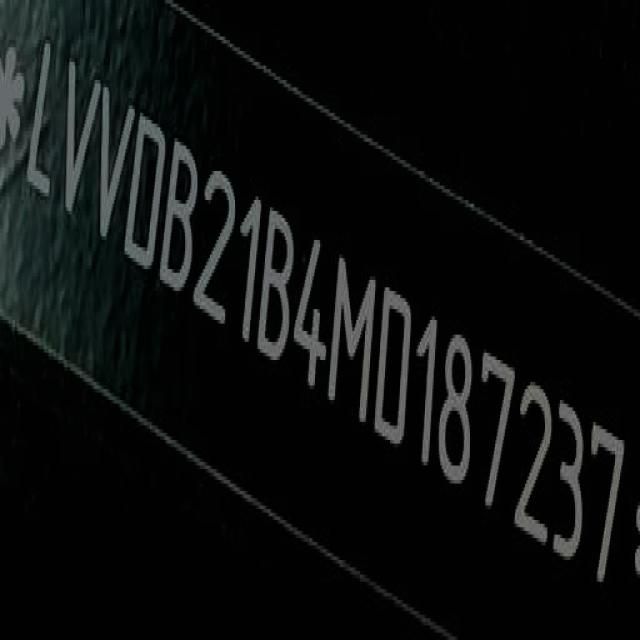1: (237, 180, 259, 354), (416, 308, 438, 477)
2: (515, 375, 555, 554), (197, 157, 236, 337)
3: (556, 393, 586, 563)
4: (294, 230, 329, 392)
7: (590, 417, 628, 592), (478, 345, 516, 516)
8: (440, 326, 476, 497)
B: (258, 195, 294, 365), (164, 130, 196, 304)
D: (127, 102, 165, 285), (376, 270, 412, 448)
L: (24, 34, 53, 202)
M: (333, 251, 378, 429)
V: (63, 58, 101, 214), (98, 81, 134, 237)
